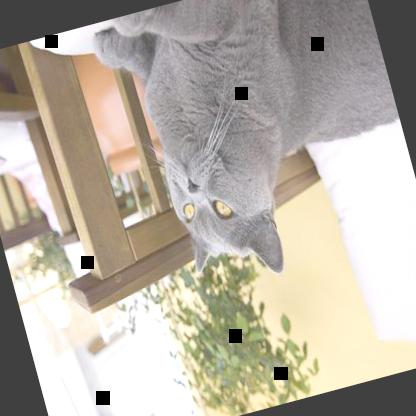cat: (88, 0, 415, 305)
